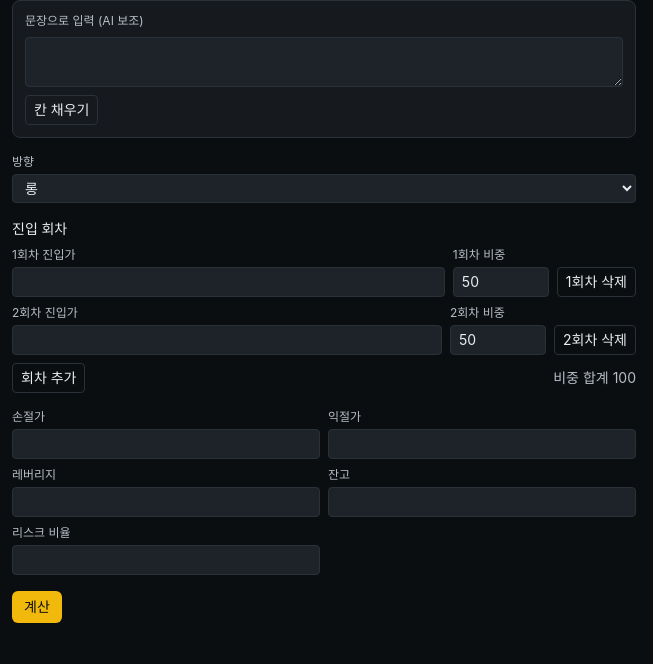
Test: 계획 초안 (AI 보조) › 읽어낸 값으로 칸을 채울 뿐 제출하지 않는다
Type "62000, 63000 반반 숏, 손절 64000, 익절 58000, 5배" into the text box named "계획 문장" at (324, 62), box [25,37,623,87]
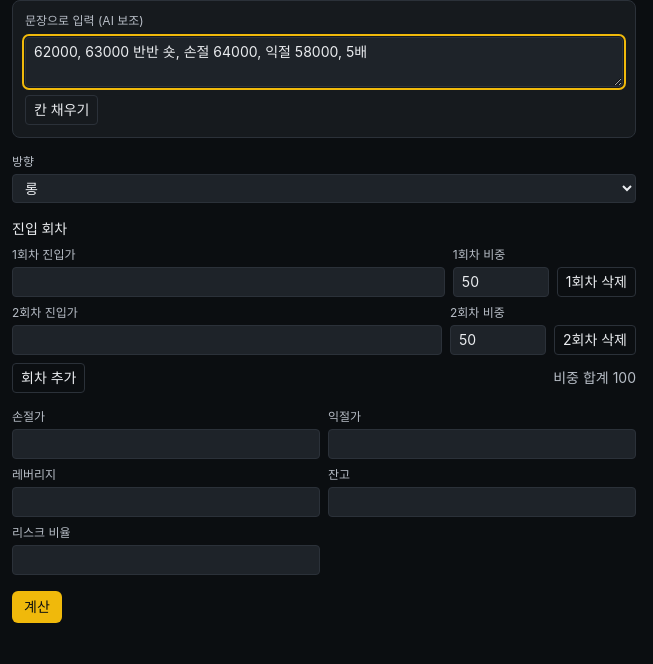
Click the button "칸 채우기" at (62, 110), box [25,95,98,125]
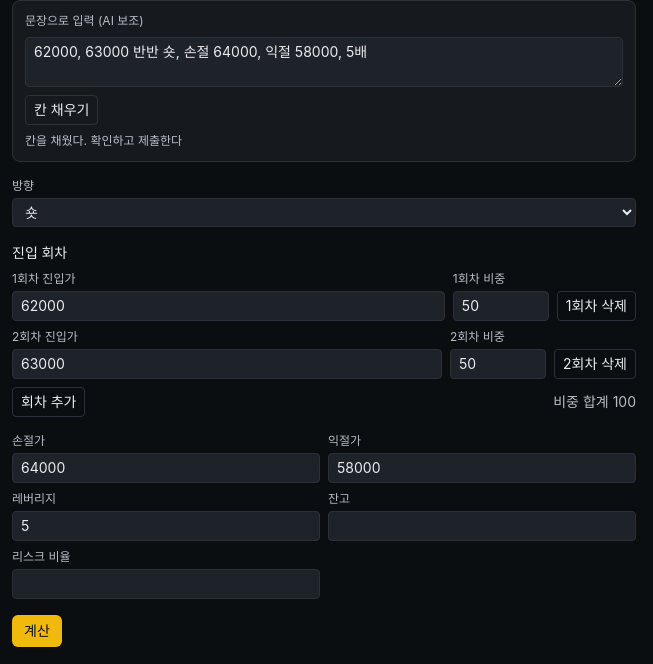
Now the number field labelled "1회차 진입가" holds "62000", box [12,291,445,321]
Now the number field labelled "손절가" holds "64000", box [12,453,320,483]
